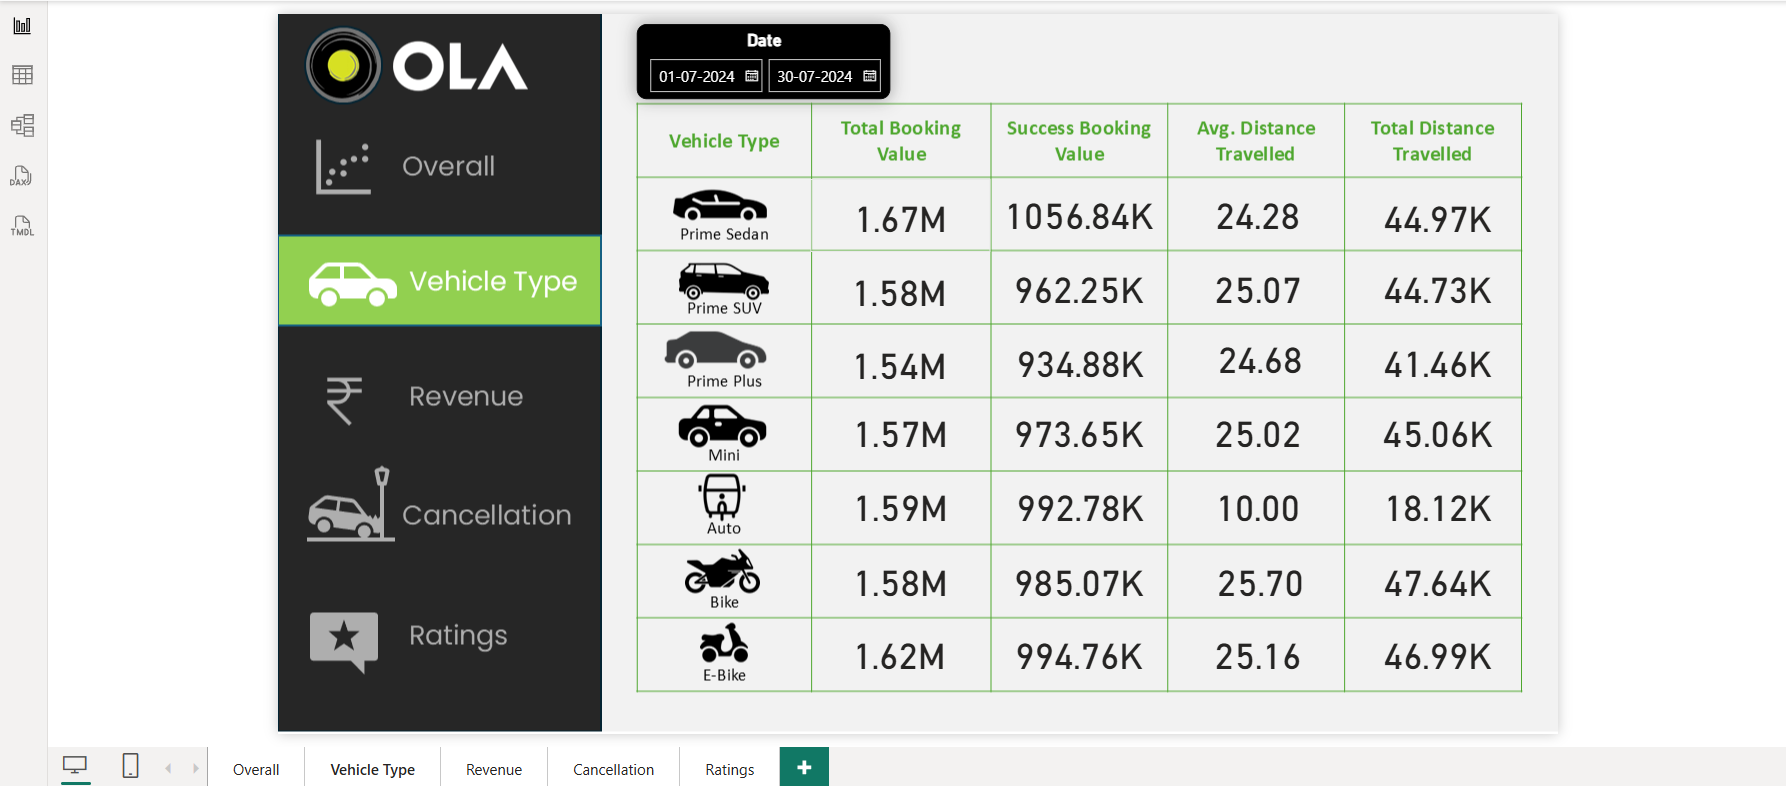

This screenshot's page, from the dashboard's own definition file:
{"tool":"powerbi","page":{"name":"Vehicle Type","canvas":[1280,720],"ordinal":1},"visuals":[{"type":"actionButton","box":[0,111,323.3,88.1],"z":0},{"type":"actionButton","box":[0,336.6,323.3,88.1],"z":1000},{"type":"actionButton","box":[0,453.6,323.3,88.1],"z":2000},{"type":"actionButton","box":[0,580.3,323.3,88.1],"z":3000},{"type":"card","fields":{"Values":["Sum(July.Booking_Value)"]},"box":[532.4,164.7,179.8,74.1],"z":4000},{"type":"card","fields":{"Values":["Sum(July.Booking_Value)"]},"box":[531,238.8,179.8,74.1],"z":5000},{"type":"card","fields":{"Values":["Sum(July.Booking_Value)"]},"box":[531,312.9,179.8,74.1],"z":6000},{"type":"card","fields":{"Values":["Sum(July.Booking_Value)"]},"box":[532.4,380.1,179.8,74.1],"z":7000},{"type":"card","fields":{"Values":["Sum(July.Booking_Value)"]},"box":[532.4,454.2,179.8,74.1],"z":8000},{"type":"card","fields":{"Values":["Sum(July.Booking_Value)"]},"box":[532.4,528.3,179.8,74.1],"z":9000},{"type":"card","fields":{"Values":["Sum(July.Booking_Value)"]},"box":[531,602.4,179.8,74.1],"z":10000},{"type":"card","fields":{"Values":["Sum(July.Booking_Value)"]},"box":[710.8,161.9,179.8,74.1],"z":11000},{"type":"card","fields":{"Values":["Sum(July.Booking_Value)"]},"box":[710.8,236,179.8,74.1],"z":12000},{"type":"card","fields":{"Values":["Sum(July.Booking_Value)"]},"box":[712.2,310.1,179.8,74.1],"z":13000},{"type":"card","fields":{"Values":["Sum(July.Booking_Value)"]},"box":[710.8,380.1,179.8,74.1],"z":14000},{"type":"card","fields":{"Values":["Sum(July.Booking_Value)"]},"box":[712.2,454.2,179.8,74.1],"z":15000},{"type":"card","fields":{"Values":["Sum(July.Booking_Value)"]},"box":[710.8,528.3,179.8,74.1],"z":16000},{"type":"card","fields":{"Values":["Sum(July.Booking_Value)"]},"box":[710.8,602.4,179.8,74.1],"z":17000},{"type":"card","fields":{"Values":["Avg(July.Ride_Distance)"]},"box":[890.6,161.9,179.8,74.1],"z":18000},{"type":"card","fields":{"Values":["Avg(July.Ride_Distance)"]},"box":[890.6,236,179.8,74.1],"z":19000},{"type":"card","fields":{"Values":["Avg(July.Ride_Distance)"]},"box":[891.9,306,179.8,74.1],"z":20000},{"type":"card","fields":{"Values":["Avg(July.Ride_Distance)"]},"box":[890.6,380.1,179.8,74.1],"z":21000},{"type":"card","fields":{"Values":["Avg(July.Ride_Distance)"]},"box":[890.6,454.2,179.8,74.1],"z":22000},{"type":"card","fields":{"Values":["Avg(July.Ride_Distance)"]},"box":[891.9,528.3,179.8,74.1],"z":23000},{"type":"card","fields":{"Values":["Avg(July.Ride_Distance)"]},"box":[890.6,602.4,179.8,74.1],"z":24000},{"type":"card","fields":{"Values":["Sum(July.Ride_Distance)"]},"box":[1070.3,164.7,179.8,74.1],"z":25000},{"type":"card","fields":{"Values":["Sum(July.Ride_Distance)"]},"box":[1070.3,236,179.8,74.1],"z":26000},{"type":"card","fields":{"Values":["Sum(July.Ride_Distance)"]},"box":[1070.3,310.1,179.8,74.1],"z":27000},{"type":"card","fields":{"Values":["Sum(July.Ride_Distance)"]},"box":[1070.3,380.1,179.8,74.1],"z":28000},{"type":"card","fields":{"Values":["Sum(July.Ride_Distance)"]},"box":[1070.3,454.2,179.8,74.1],"z":29000},{"type":"card","fields":{"Values":["Sum(July.Ride_Distance)"]},"box":[1070.3,528.3,179.8,74.1],"z":30000},{"type":"card","fields":{"Values":["Sum(July.Ride_Distance)"]},"box":[1070.3,602.4,179.8,74.1],"z":31000},{"type":"slicer","title":"Date","fields":{"Values":["July.Date"]},"box":[358.1,9.6,253.9,75.5],"z":32000}]}

Visuals, with their boxes on the page's 1280x720 design canvas (x1, y1, x2, y2). These are canvas units, not pixel positions in the 1786x786 screenshot, which may show the page scaled, cropped or inside an application window:
actionButton: bbox=(0, 111, 323, 199)
actionButton: bbox=(0, 337, 323, 425)
actionButton: bbox=(0, 454, 323, 542)
actionButton: bbox=(0, 580, 323, 668)
card - Sum(July.Booking_Value): bbox=(532, 165, 712, 239)
card - Sum(July.Booking_Value): bbox=(531, 239, 711, 313)
card - Sum(July.Booking_Value): bbox=(531, 313, 711, 387)
card - Sum(July.Booking_Value): bbox=(532, 380, 712, 454)
card - Sum(July.Booking_Value): bbox=(532, 454, 712, 528)
card - Sum(July.Booking_Value): bbox=(532, 528, 712, 602)
card - Sum(July.Booking_Value): bbox=(531, 602, 711, 676)
card - Sum(July.Booking_Value): bbox=(711, 162, 891, 236)
card - Sum(July.Booking_Value): bbox=(711, 236, 891, 310)
card - Sum(July.Booking_Value): bbox=(712, 310, 892, 384)
card - Sum(July.Booking_Value): bbox=(711, 380, 891, 454)
card - Sum(July.Booking_Value): bbox=(712, 454, 892, 528)
card - Sum(July.Booking_Value): bbox=(711, 528, 891, 602)
card - Sum(July.Booking_Value): bbox=(711, 602, 891, 676)
card - Avg(July.Ride_Distance): bbox=(891, 162, 1070, 236)
card - Avg(July.Ride_Distance): bbox=(891, 236, 1070, 310)
card - Avg(July.Ride_Distance): bbox=(892, 306, 1072, 380)
card - Avg(July.Ride_Distance): bbox=(891, 380, 1070, 454)
card - Avg(July.Ride_Distance): bbox=(891, 454, 1070, 528)
card - Avg(July.Ride_Distance): bbox=(892, 528, 1072, 602)
card - Avg(July.Ride_Distance): bbox=(891, 602, 1070, 676)
card - Sum(July.Ride_Distance): bbox=(1070, 165, 1250, 239)
card - Sum(July.Ride_Distance): bbox=(1070, 236, 1250, 310)
card - Sum(July.Ride_Distance): bbox=(1070, 310, 1250, 384)
card - Sum(July.Ride_Distance): bbox=(1070, 380, 1250, 454)
card - Sum(July.Ride_Distance): bbox=(1070, 454, 1250, 528)
card - Sum(July.Ride_Distance): bbox=(1070, 528, 1250, 602)
card - Sum(July.Ride_Distance): bbox=(1070, 602, 1250, 676)
"Date" slicer: bbox=(358, 10, 612, 85)
